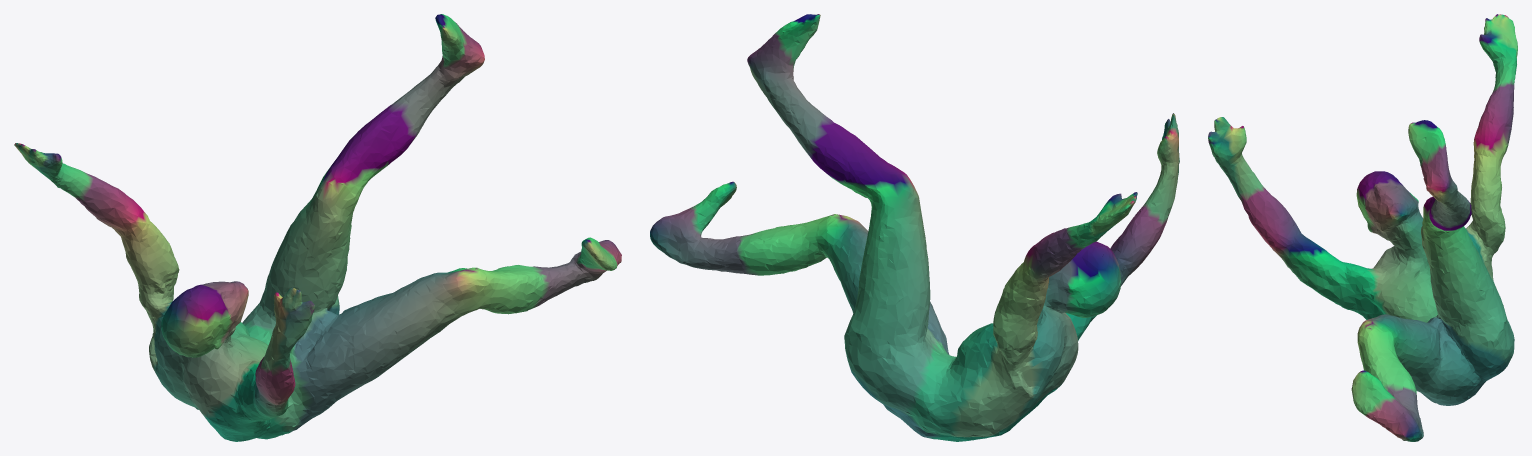
File: man-19.off.obj
3 views of the same model, side by side, from view 1: azimuth 30°, elevation 25°; view 2: azimuth 150°, elevation 25°; view 3: azimuth 270°, elevation 25° (orthographic). The views are drawn at different scales.
Bounding box in the file's own units: 1.57 × 1.06 × 0.8606.
